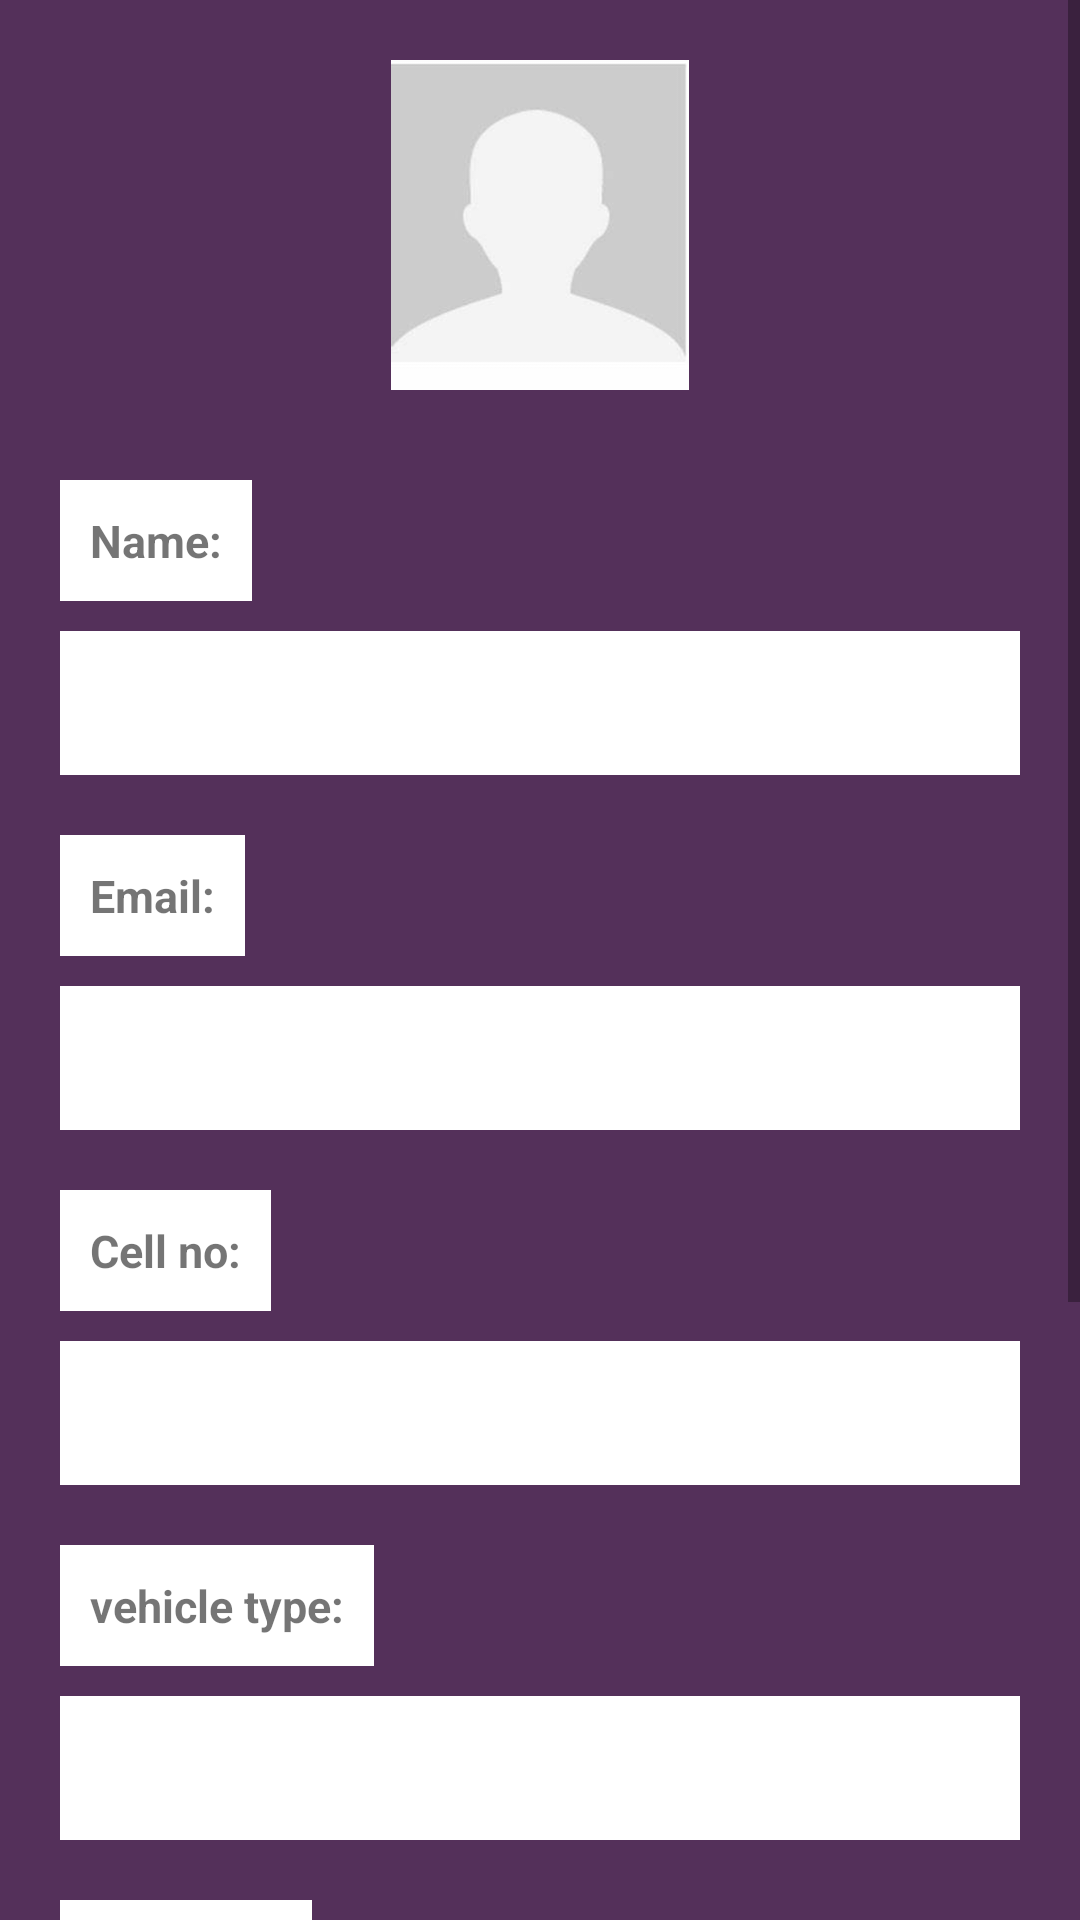

Icon bounding boxes for this 1080px x 1920px phone screenshot, format detection(x1, y1, x2, y2):
profile: detection(391, 60, 689, 390)
